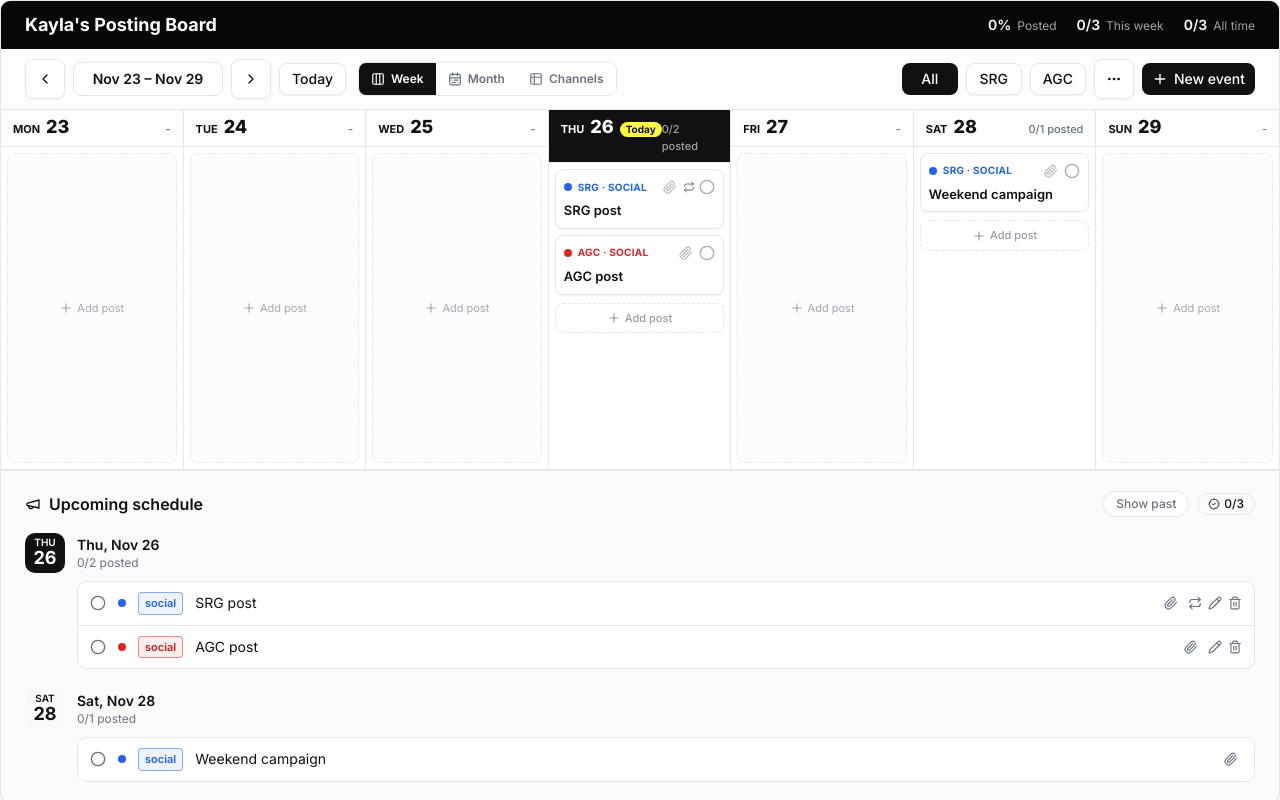
MarketingCalendar controls › filters to the company named on the clicked button
Expected: the heading "Kayla's Posting Board" is shown, [25,11,217,39]
Click the button "AGC".
click(1058, 79)  # box [1030,63,1086,95]
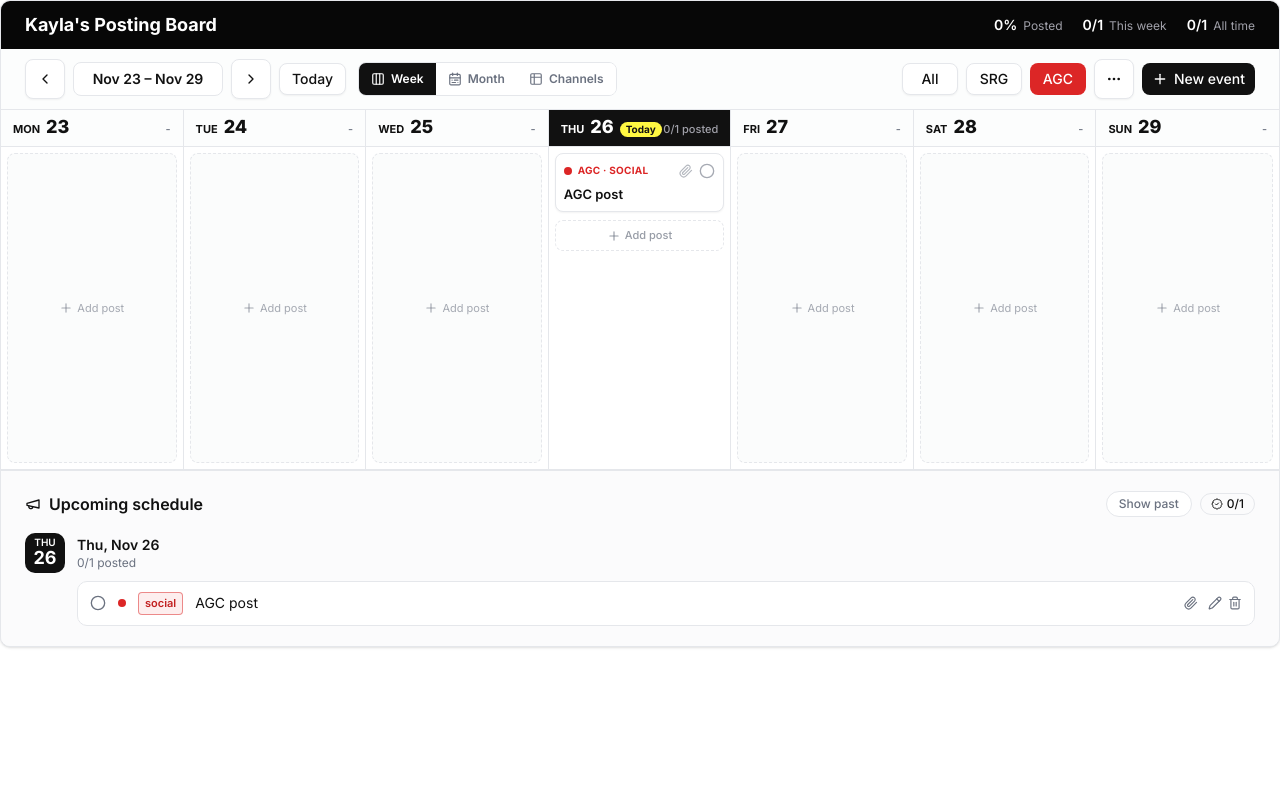
Expected: the text "AGC post" below "25" is shown, [564,186,623,202]
Expected: no buttons "SRG post" are shown
Click the button "All".
click(930, 79)  # box [902,63,958,95]
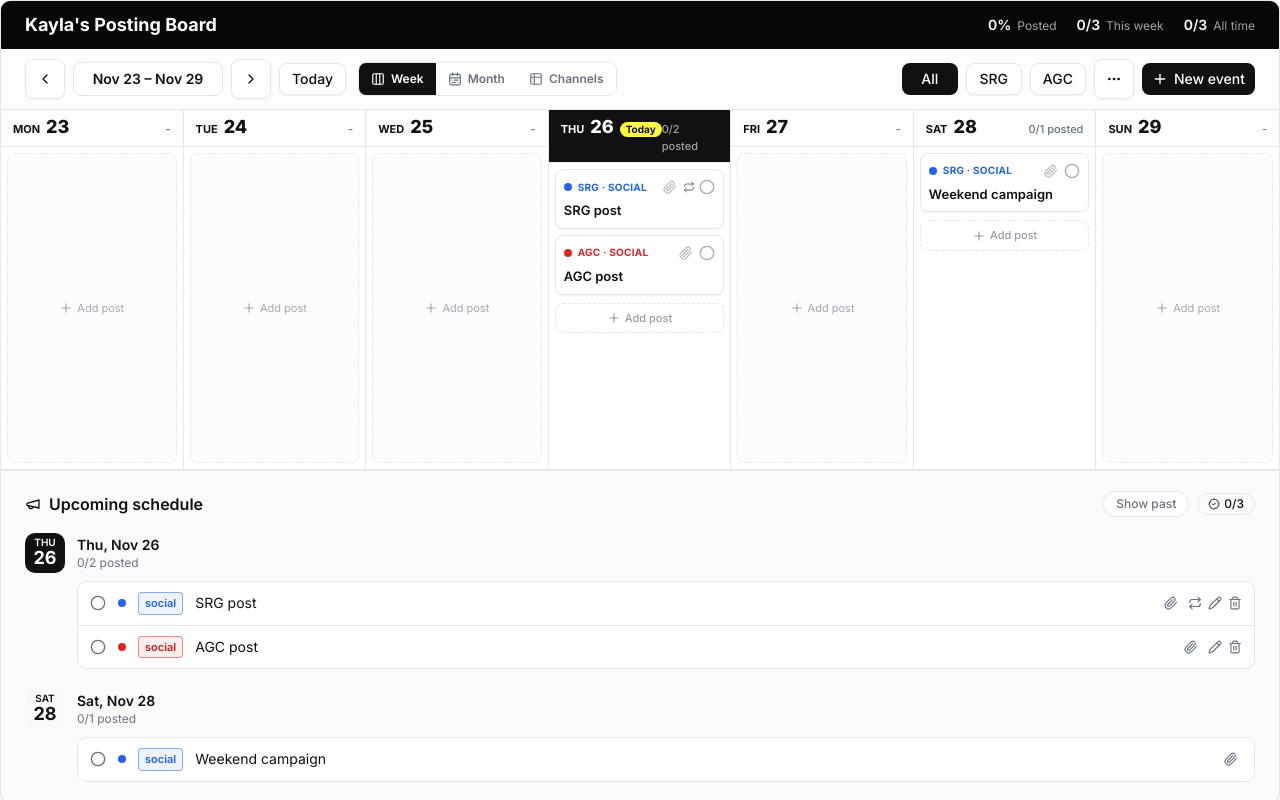
Expected: the text "AGC post" below "25" is shown, [564,268,623,284]
Expected: the text "SRG post" below "25" is shown, [564,202,621,218]
Click the button "SRG".
click(994, 79)  # box [966,63,1022,95]
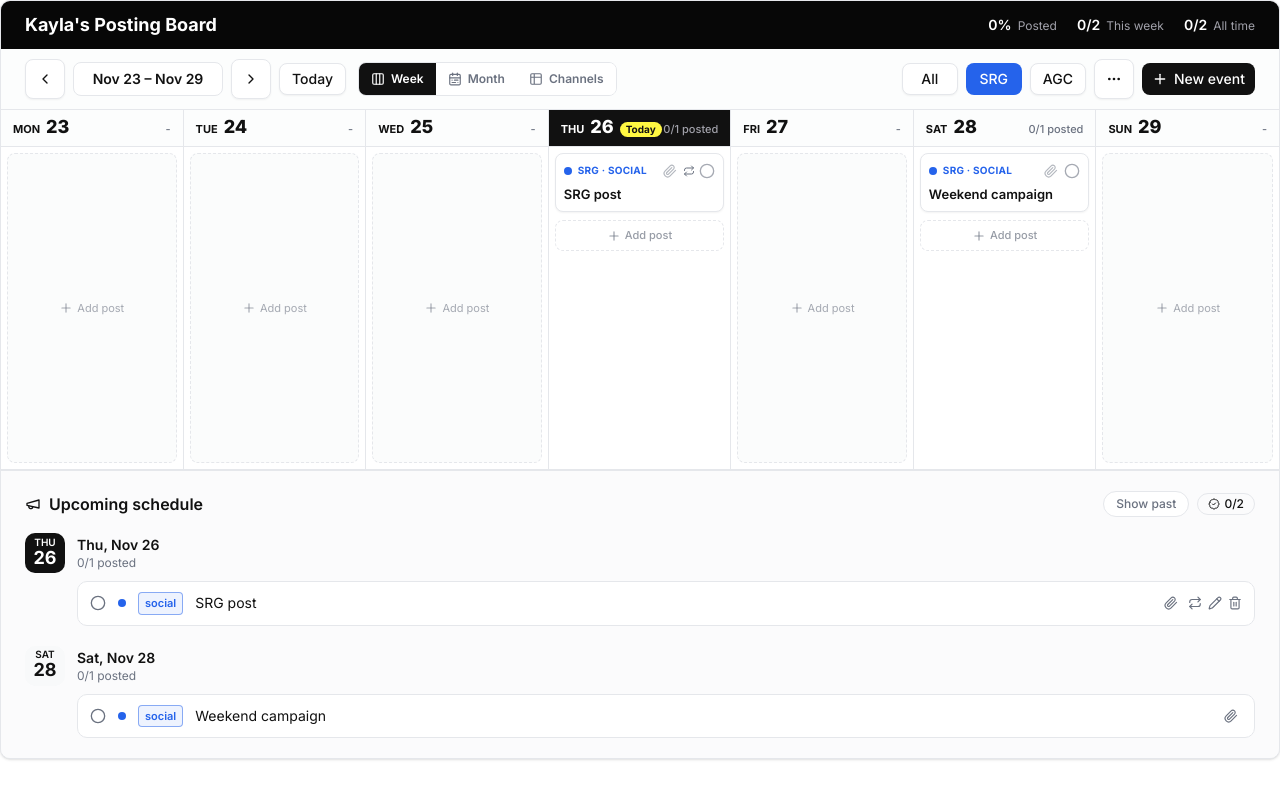
Expected: the text "SRG post" below "25" is shown, [564,186,621,202]
Expected: no buttons "AGC post" are shown
Click the button "AGC".
click(1058, 79)  # box [1030,63,1086,95]
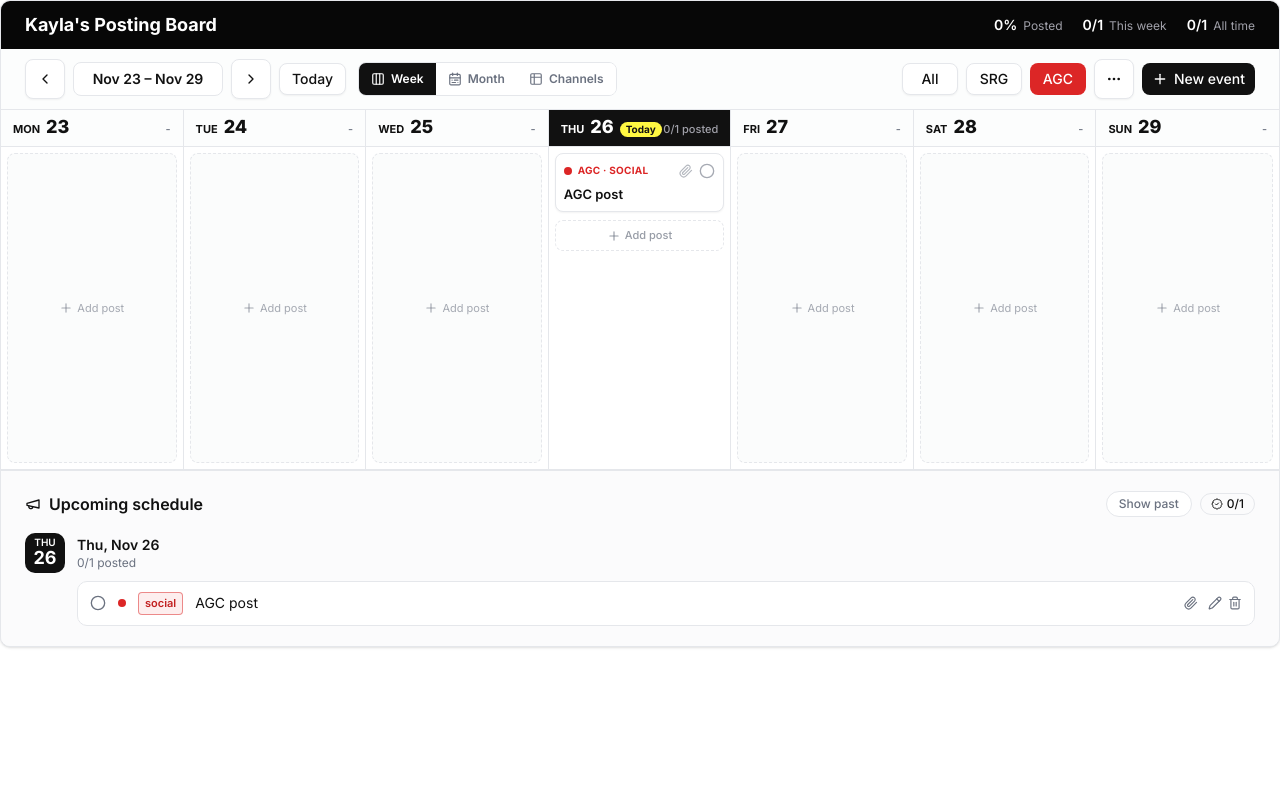
Expected: the text "AGC post" below "25" is shown, [564,186,623,202]
Expected: no buttons "SRG post" are shown
